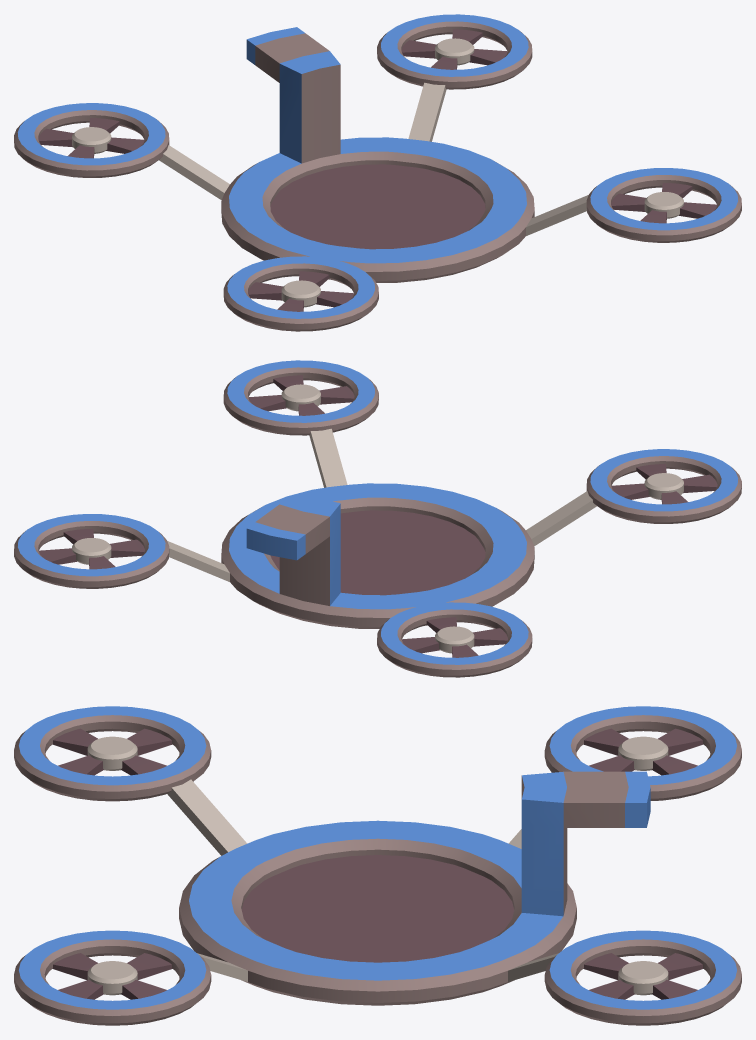
The model's file is Blue_Bot1.fbx.
3 views of the same model, one above another, from view 1: azimuth 30°, elevation 25°; view 2: azimuth 150°, elevation 25°; view 3: azimuth 270°, elevation 25° (orthographic). The views are drawn at different scales.
Visible parts, largest first — view 1: Blue_Bot; view 2: Blue_Bot; view 3: Blue_Bot.
Part boxes in pixels (left/top/right/bottom): Blue_Bot: left=14, top=14, right=741, bottom=331; Blue_Bot: left=14, top=360, right=741, bottom=677; Blue_Bot: left=14, top=706, right=741, bottom=1025.
Bounding box in the file's own units: 52.9 × 11.1 × 52.9.
